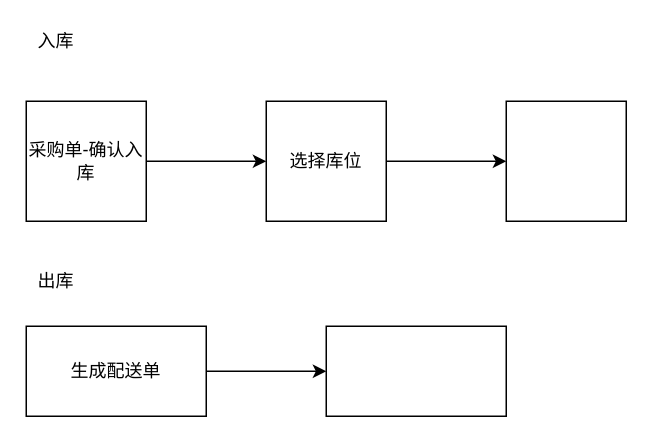
This 653x443 diagram has some shape labels left out. Here are the shapes that lost their labels. From the top down, the box of each, then its label:
(505, 100, 626, 221): 插入采购单关联表
(325, 325, 506, 416): 1、减去商品库存 2、减去库位库存
